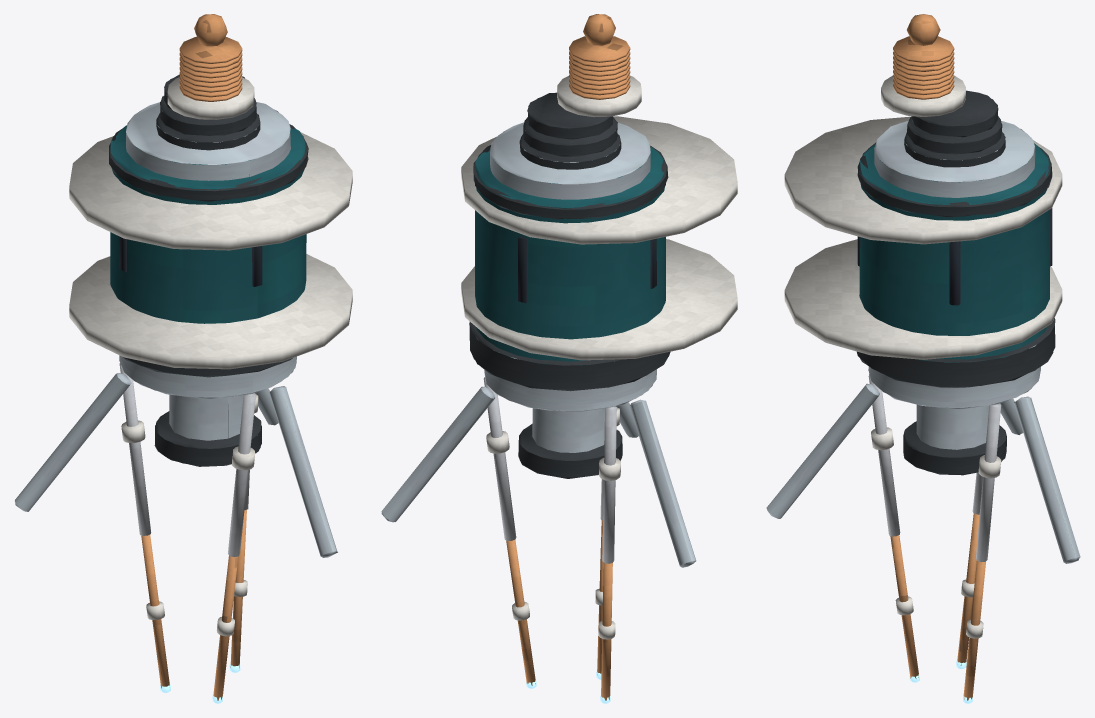
Rendered from claw_charge.glb.
3 views of the same model, side by side, from view 1: azimuth 30°, elevation 25°; view 2: azimuth 150°, elevation 25°; view 3: azimuth 270°, elevation 25° (orthographic). The views are drawn at different scales.
Visible parts, largest first — view 1: Hand, Jaw0, Jaw2, Jaw1; view 2: Hand, Jaw2, Jaw1, Jaw0; view 3: Hand, Jaw1, Jaw0, Jaw2.
Boxes of the visible parts, left/top/right/bottom form: Hand: left=15, top=14, right=352, bottom=557; Jaw0: left=213, top=393, right=255, bottom=700; Jaw2: left=119, top=363, right=169, bottom=688; Jaw1: left=230, top=394, right=258, bottom=667; Hand: left=381, top=14, right=737, bottom=567; Jaw2: left=598, top=406, right=620, bottom=700; Jaw1: left=483, top=377, right=535, bottom=685; Jaw0: left=595, top=407, right=619, bottom=674; Hand: left=766, top=14, right=1080, bottom=563; Jaw1: left=963, top=403, right=1001, bottom=700; Jaw0: left=868, top=374, right=918, bottom=678; Jaw2: left=957, top=472, right=982, bottom=665.
Bounding box in the file's own units: 0.7756 × 1.73 × 0.7402.
Materials: 8 (7 with a texture image).
